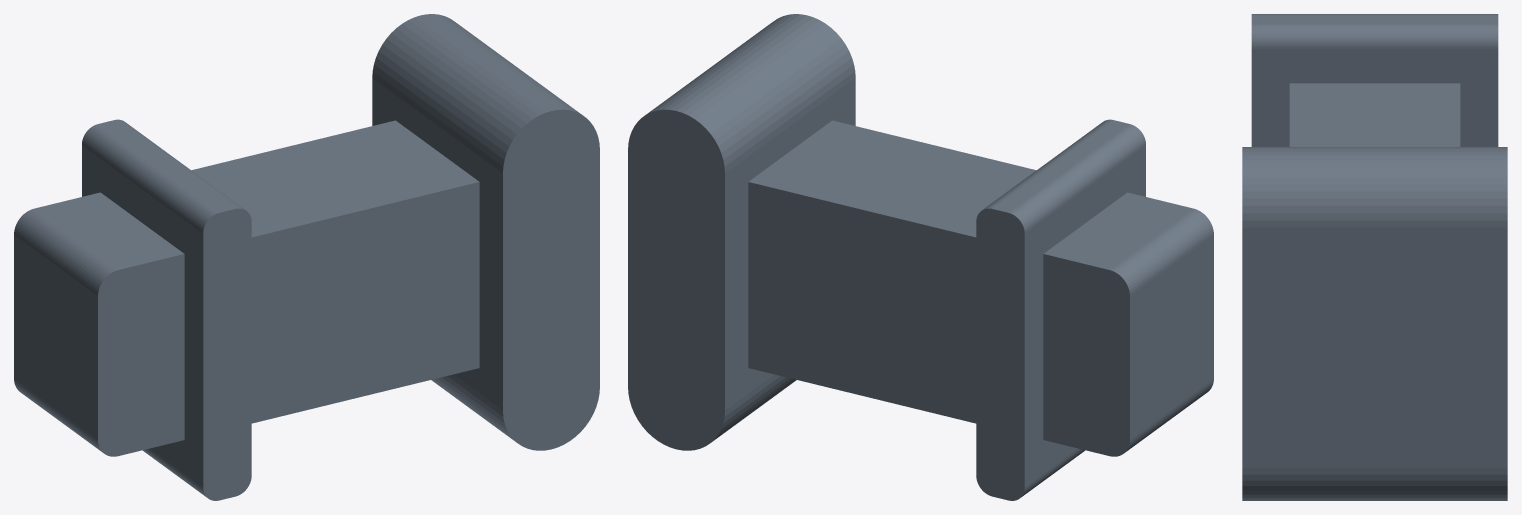
File: button-plunger-2.glb
The picture shows the model from 3 angles, left to right: view 1: azimuth 30°, elevation 25°; view 2: azimuth 150°, elevation 25°; view 3: azimuth 270°, elevation 25°; orthographic projection.
Parts seen in each view (by area): view 1: button-plunger-2; view 2: button-plunger-2; view 3: button-plunger-2.
Boxes of the visible parts, x1,y1,x2,y2 form: button-plunger-2: (14, 14, 599, 500); button-plunger-2: (628, 14, 1213, 500); button-plunger-2: (1242, 14, 1507, 500).
Size of the model in its own units: 5.92 by 4 by 2.8.
